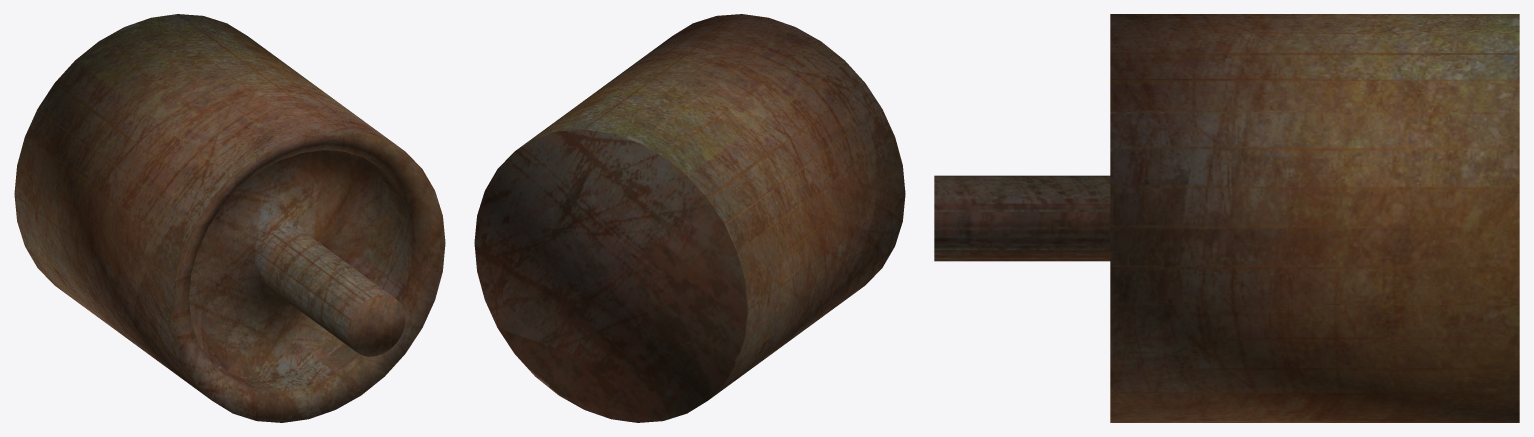
File: Tonne_1.fbx
3 renders of one model, left to right at view 1: azimuth 30°, elevation 25°; view 2: azimuth 150°, elevation 25°; view 3: azimuth 270°, elevation 25°, orthographic. The views are drawn at different scales.
Parts seen in each view (by area): view 1: Tonne_1; view 2: Tonne_1; view 3: Tonne_1.
Boxes of the visible parts, x1,y1,x2,y2 form: Tonne_1: (14, 14, 445, 422); Tonne_1: (474, 14, 905, 422); Tonne_1: (934, 14, 1519, 422).
Bounding box in the file's own units: 1.17 × 1.17 × 1.68.
1 material, 1 textured.
